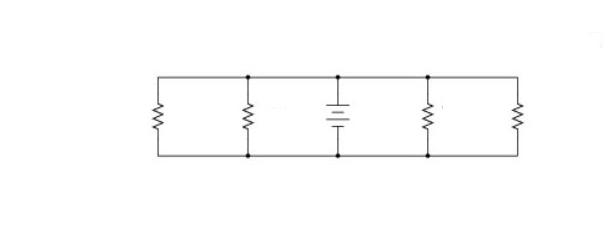resistor: (493, 81, 536, 137), (405, 83, 441, 139), (230, 89, 262, 139), (146, 84, 171, 141)
